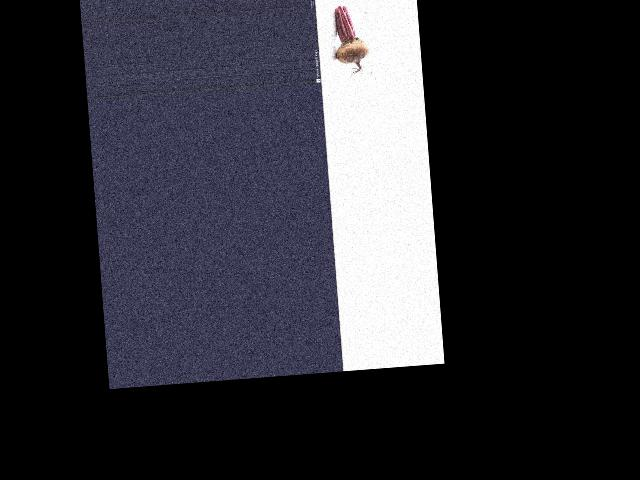beet: (332, 3, 370, 79)
